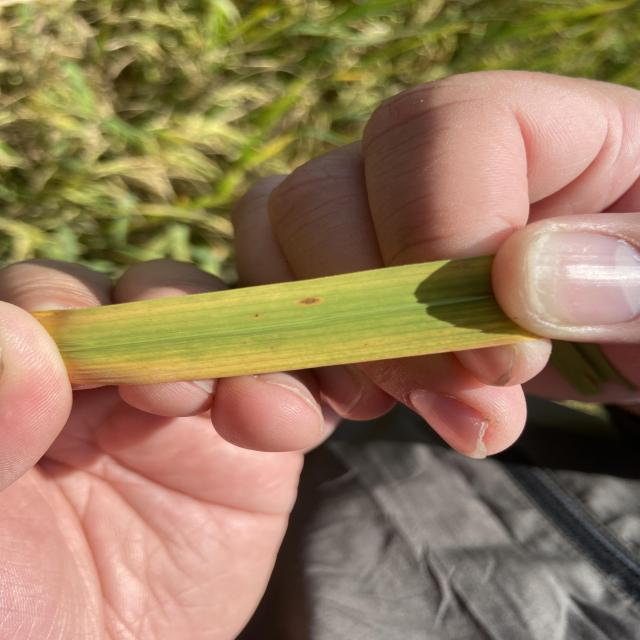Dom nau: (297, 298, 320, 305), (255, 314, 258, 317)
